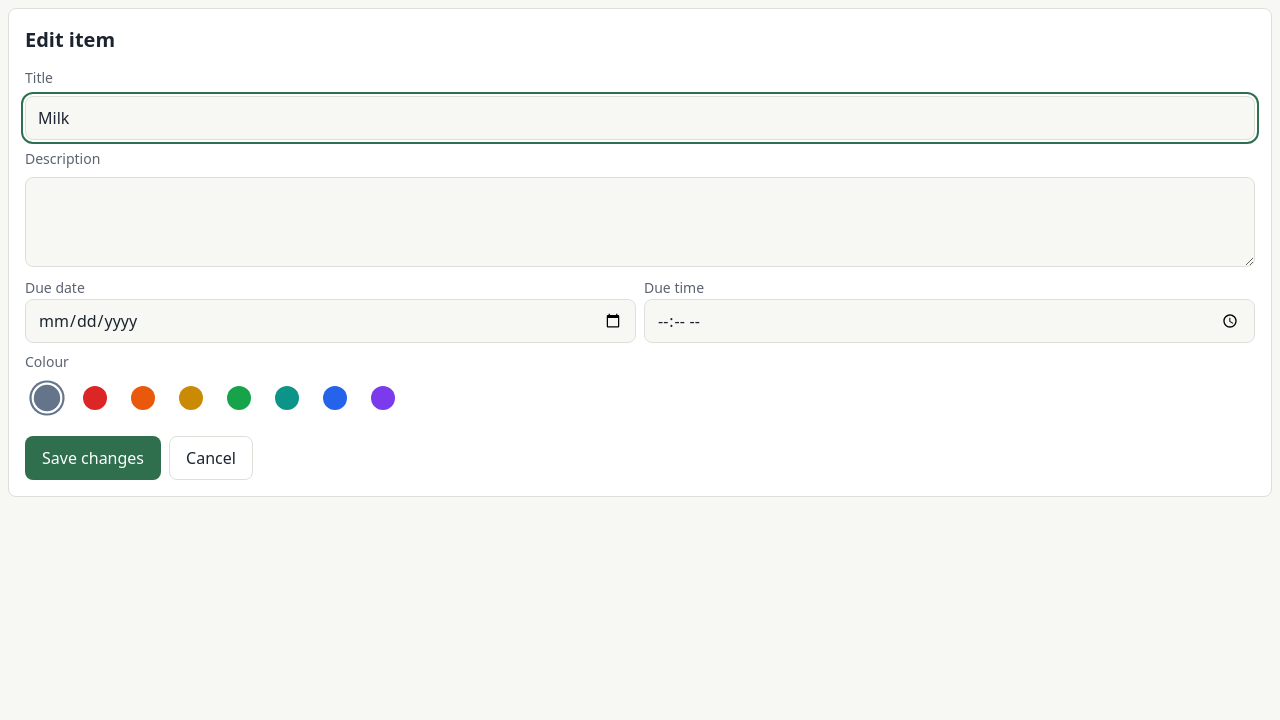
Test: discarding editor changes › Cancel routes the same way as Escape
Step 1. Type " shake" into the field labelled "Title" → (640, 118), box left=25, top=96, right=1255, bottom=140
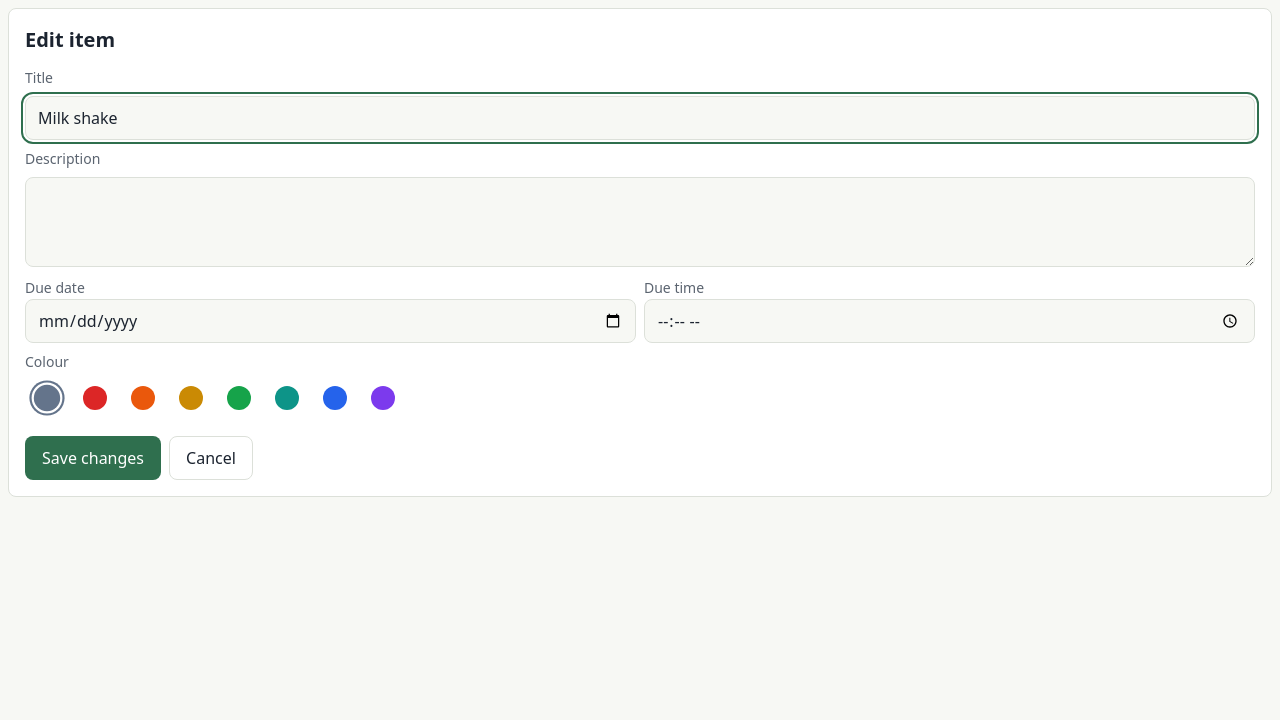
Step 2. Click the button "Cancel" → (211, 458), box left=169, top=436, right=253, bottom=480
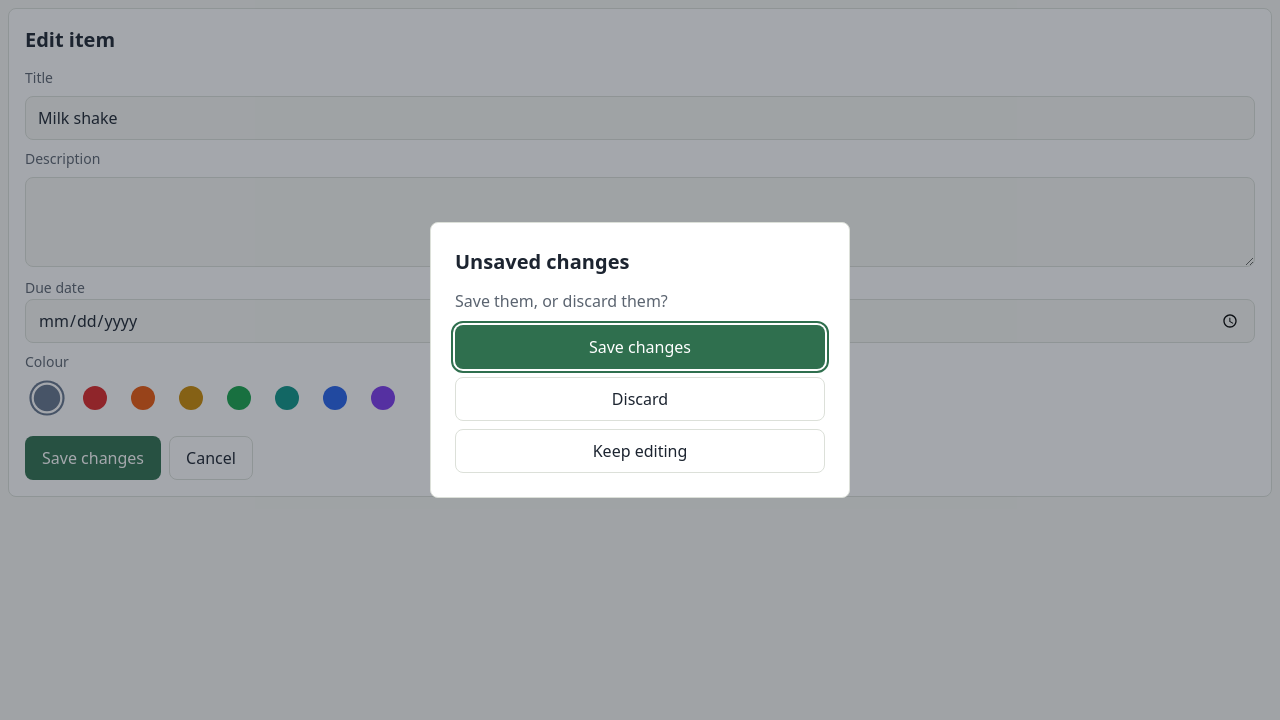
Now the dialog "Unsaved changes" is shown, box left=430, top=222, right=850, bottom=498
